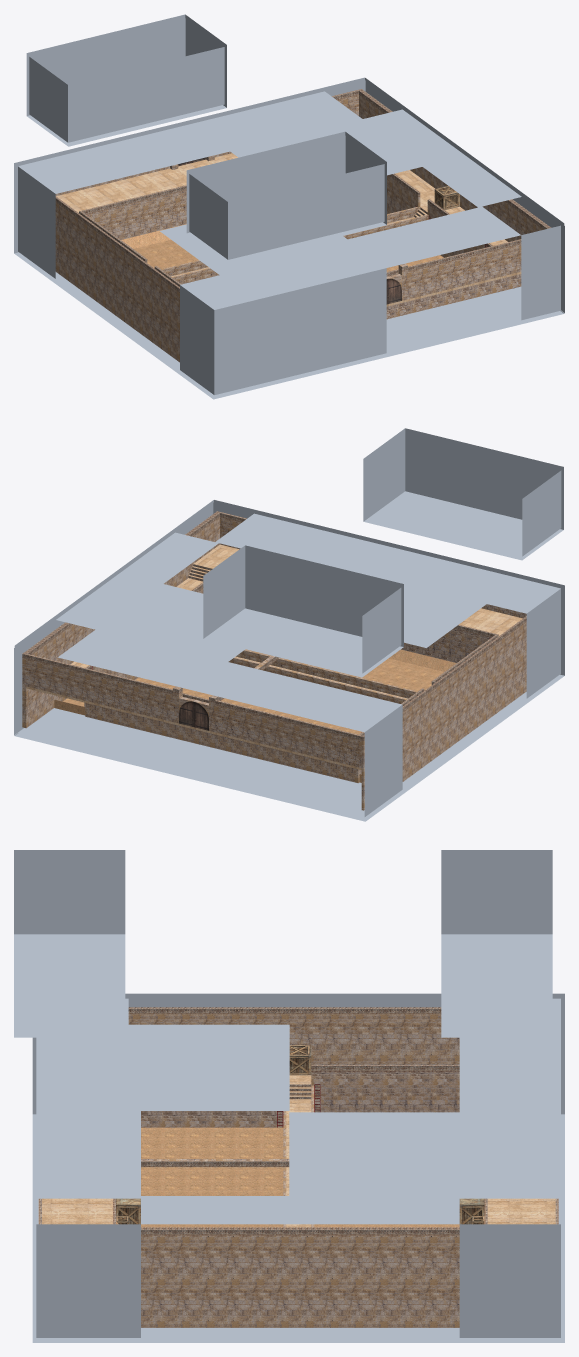
3 views of the same model, one above another, from view 1: azimuth 30°, elevation 25°; view 2: azimuth 150°, elevation 25°; view 3: azimuth 270°, elevation 25° (orthographic). The views are drawn at different scales.
Parts seen in each view (by area): view 1: 35hp_3_sky, 35hp_3_static; view 2: 35hp_3_sky, 35hp_3_static; view 3: 35hp_3_sky, 35hp_3_static.
Boxes of the visible parts, <box> form: 35hp_3_sky: <box>14,14,564,399</box>; 35hp_3_static: <box>55,89,551,362</box>; 35hp_3_sky: <box>14,428,564,821</box>; 35hp_3_static: <box>22,511,526,810</box>; 35hp_3_sky: <box>14,850,564,1342</box>; 35hp_3_static: <box>38,1007,558,1327</box>.
Bounding box in the file's own units: 71.12 × 39.01 × 72.34.
Materials: 14 (13 with a texture image).
